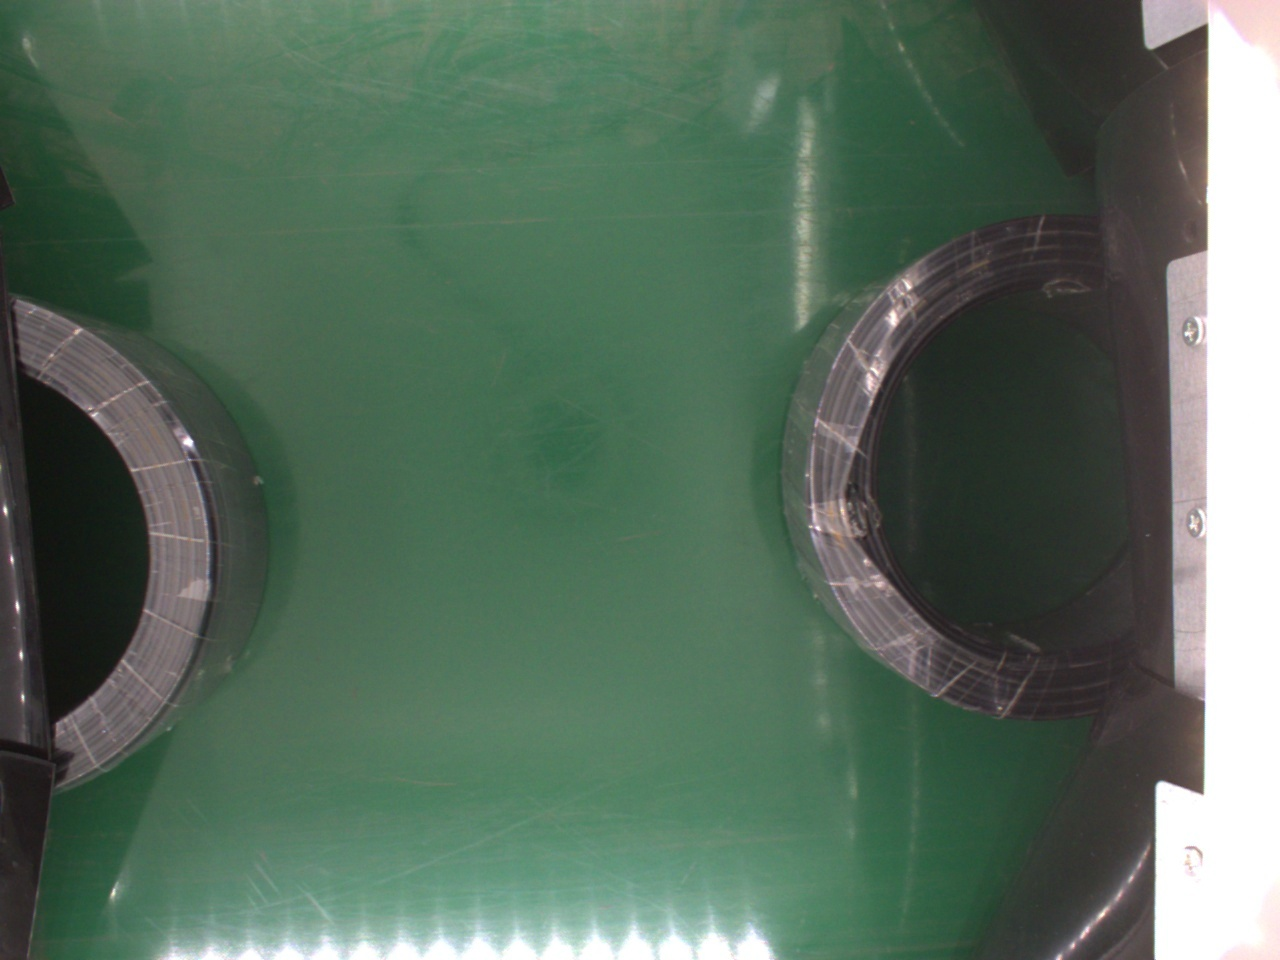black: (781, 213, 1143, 720), (8, 290, 271, 787)
